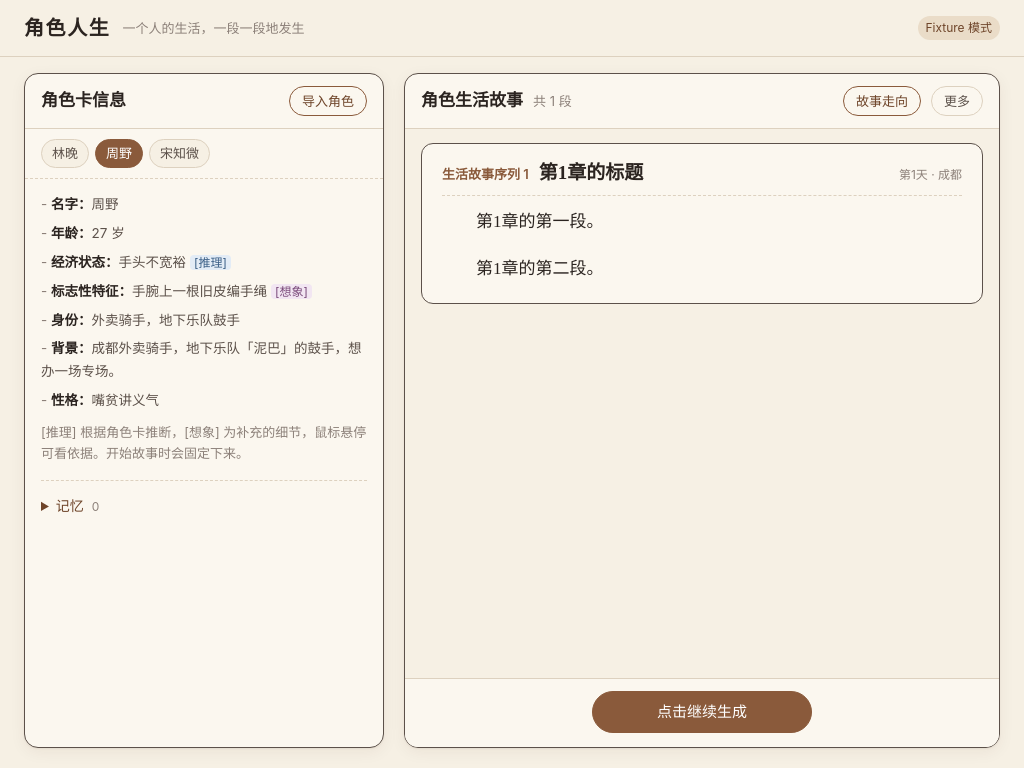
Test case: Story direction › uses the reference hint and examples, then sets, shows and clears a direction
Click the button "故事走向".
click(882, 101)  # box [843,86,921,116]
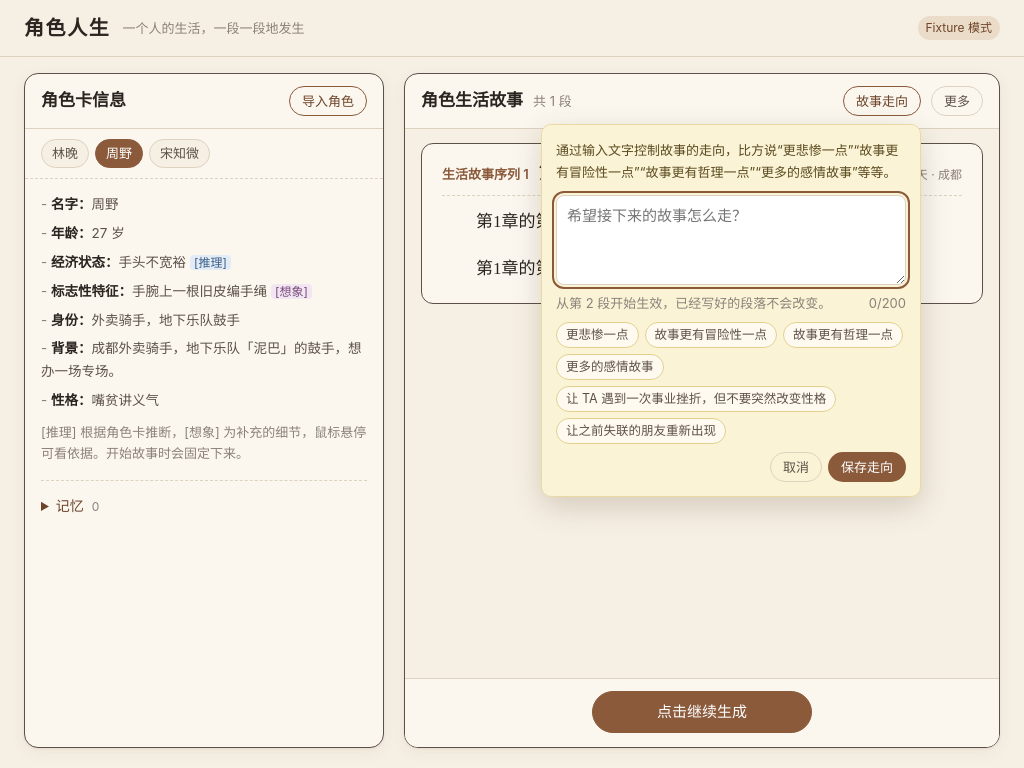
Check: the dialog named "故事走向" shows "通过输入文字控制故事的走向，比方说“更悲惨一点”", box [556,142,898,180]
Check: the text "从第 2 段开始生效，已经写好的段落不会改变。" is shown, box [556,293,831,314]
Type "好" into the text box named "故事走向".
click(731, 240); type("好")  # box [556,195,906,285]
Click the button "保存走向".
click(867, 467)  # box [828,452,906,482]
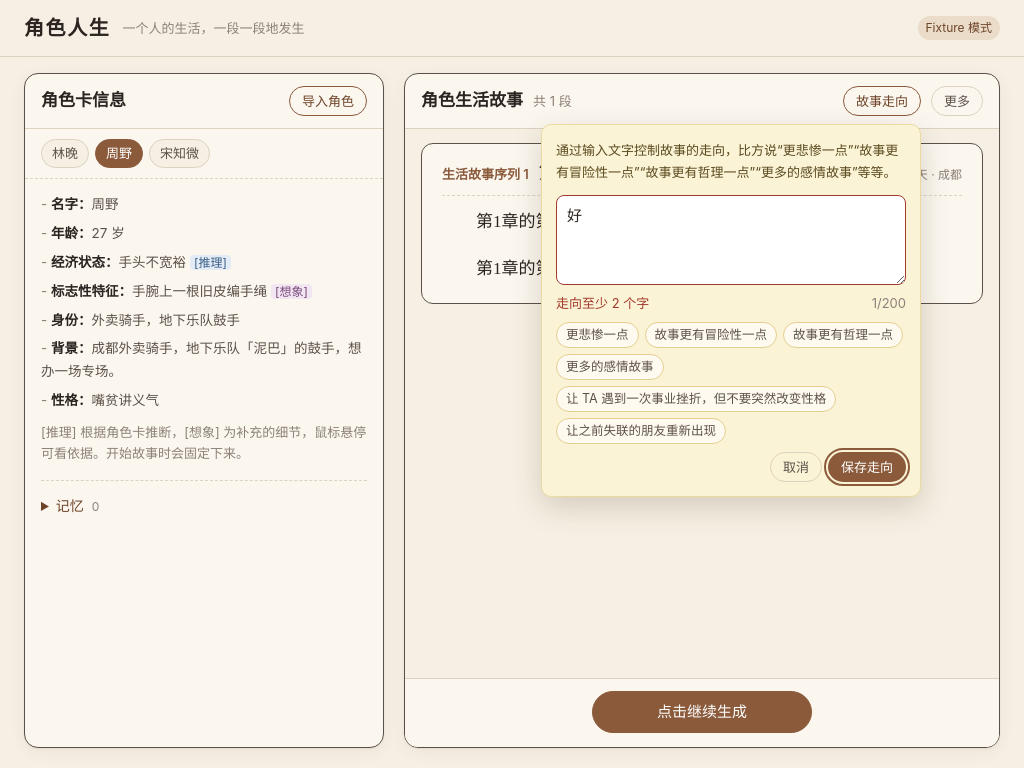
Check: the text "走向至少 2 个字" is shown, box [556,293,649,314]
Clear the text box named "故事走向" at [731, 240], box [556,195,906,285]
Click the button "更多的感情故事".
click(610, 367)  # box [556,354,664,380]
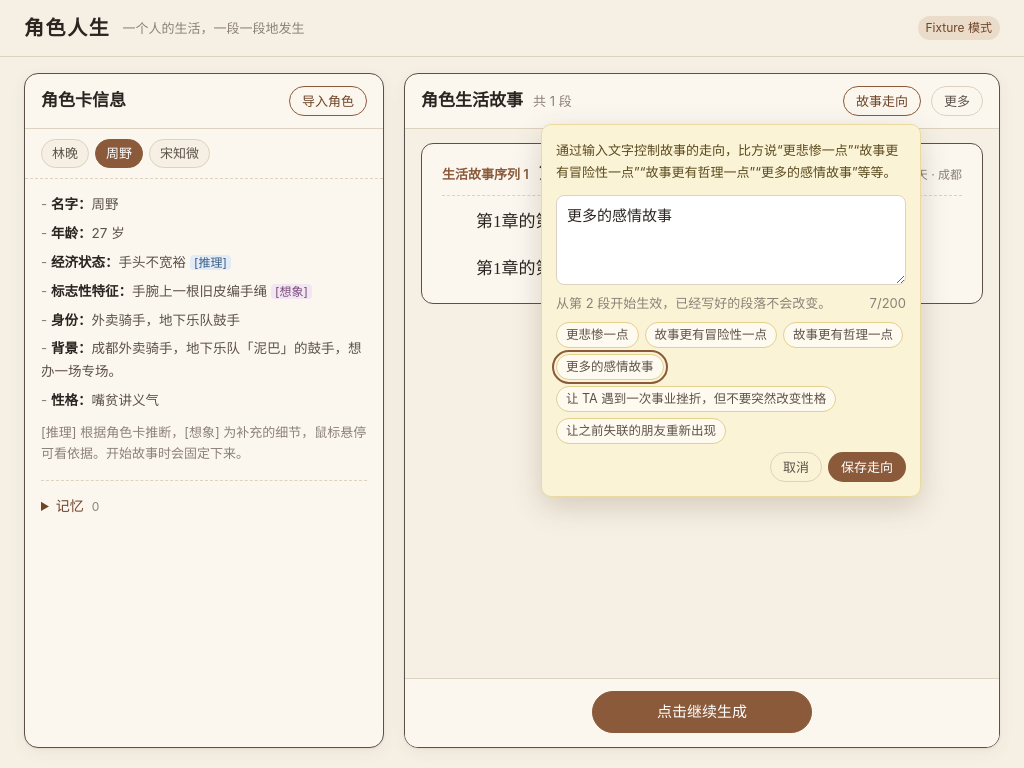
Click the button "保存走向".
click(867, 467)  # box [828,452,906,482]
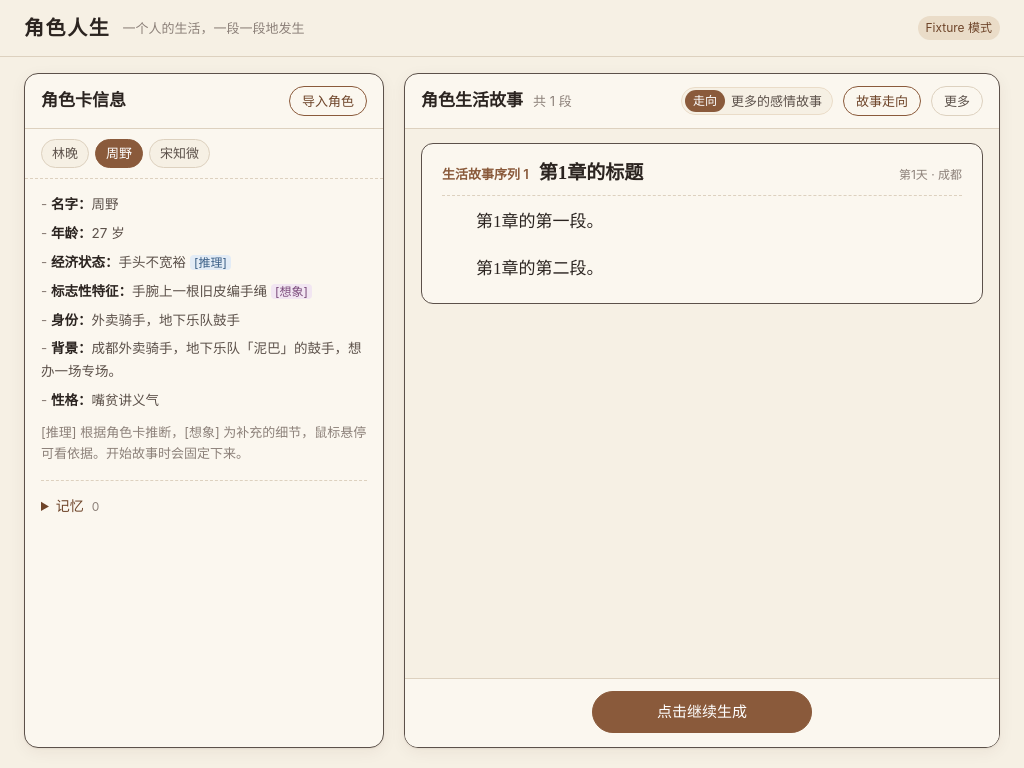
Check: the button titled "更多的感情故事" is shown, box [681,87,833,115]
Click the button "故事走向".
click(882, 101)  # box [843,86,921,116]
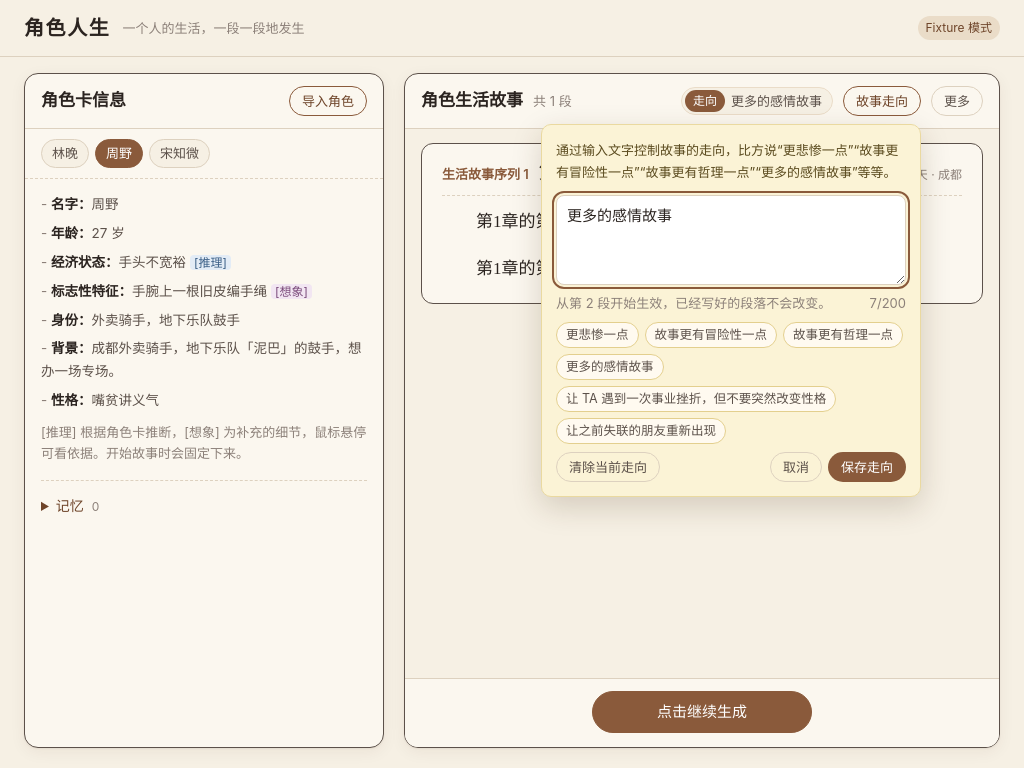
Click the button "清除当前走向".
click(608, 467)  # box [556,452,660,482]
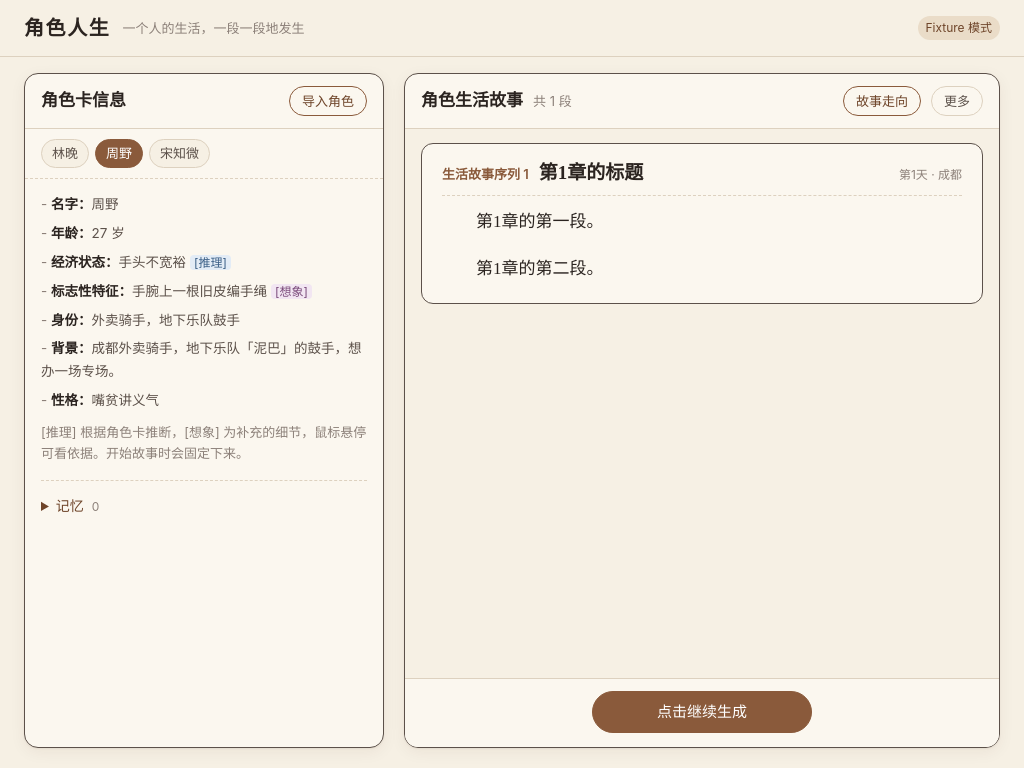
Check: the button titled "更多的感情故事" is gone
